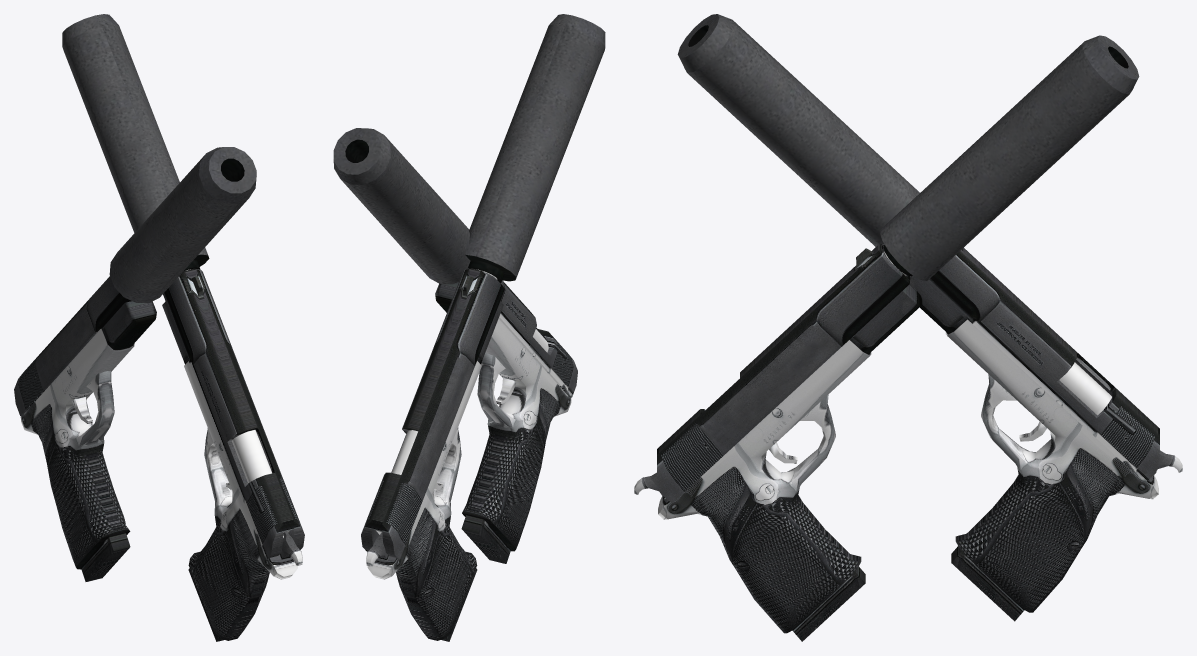
Rendered from silenced_pistols.glb.
3 views of the same model, side by side, from view 1: azimuth 30°, elevation 25°; view 2: azimuth 150°, elevation 25°; view 3: azimuth 270°, elevation 25° (orthographic). The views are drawn at different scales.
Parts seen in each view (by area): view 1: Object_2; view 2: Object_2; view 3: Object_2.
Part boxes in pixels (<box>): Object_2: <box>14,14,304,641</box>; Object_2: <box>333,14,605,641</box>; Object_2: <box>634,14,1182,641</box>.
Bounding box in the file's own units: 16.3 × 89.88 × 74.59.
1 material, 1 textured.
